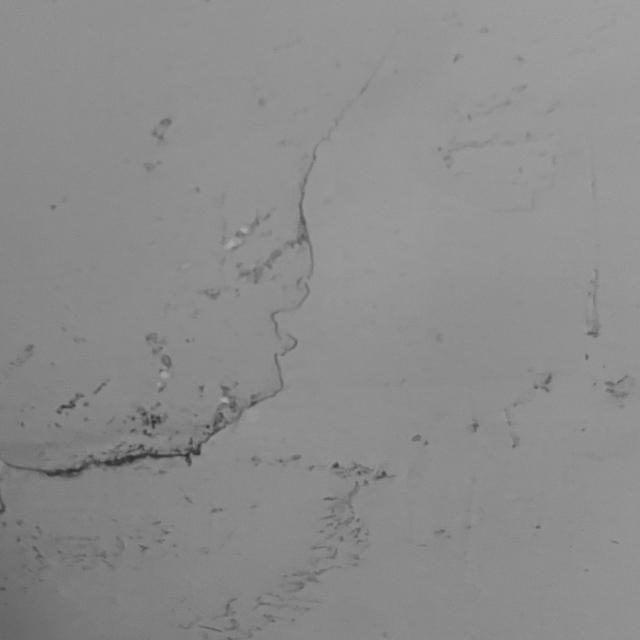rough and patchy surface: (10, 65, 632, 628)
